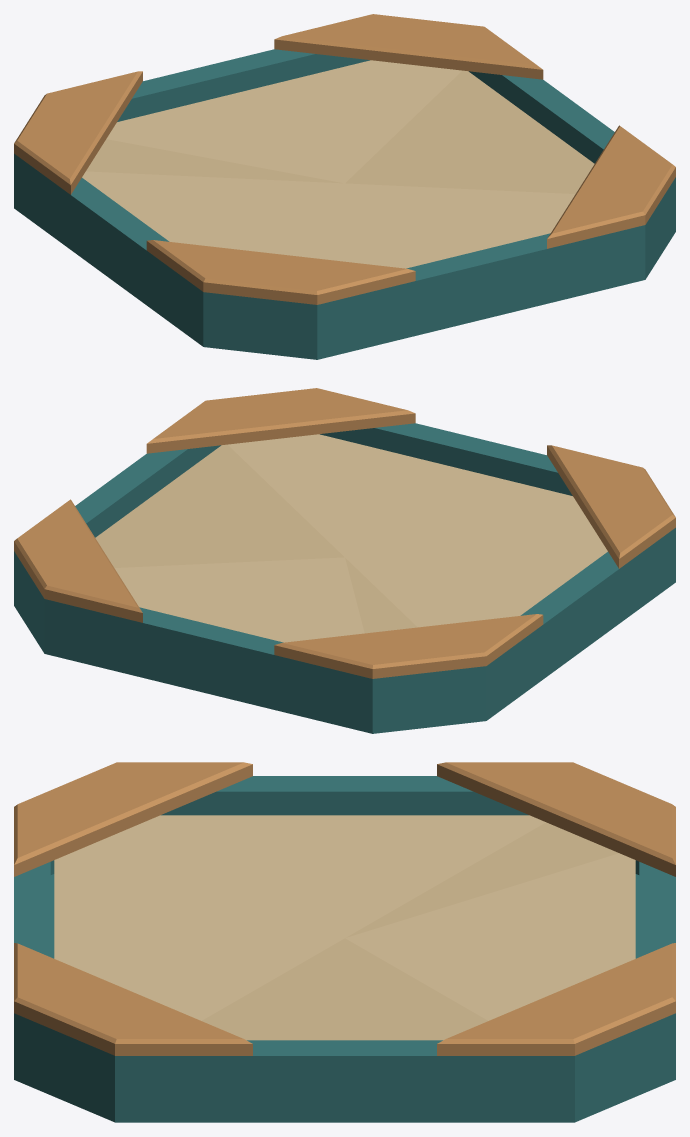
The picture shows the model from 3 angles, top to bottom: view 1: azimuth 30°, elevation 25°; view 2: azimuth 150°, elevation 25°; view 3: azimuth 270°, elevation 25°; orthographic projection. The views are drawn at different scales.
Parts seen in each view (by area): view 1: Complete_ClosedSandLayer, One_ContinuousClosedBottomPit, SW_BroadCornerSeat, NE_BroadCornerSeat, NW_BroadCornerSeat, SE_BroadCornerSeat; view 2: Complete_ClosedSandLayer, One_ContinuousClosedBottomPit, NW_BroadCornerSeat, SE_BroadCornerSeat, SW_BroadCornerSeat, NE_BroadCornerSeat; view 3: Complete_ClosedSandLayer, One_ContinuousClosedBottomPit, NW_BroadCornerSeat, SW_BroadCornerSeat, NE_BroadCornerSeat, SE_BroadCornerSeat.
Boxes of the visible parts, x1,y1,x2,y2 form: Complete_ClosedSandLayer: [82, 60, 594, 268]; One_ContinuousClosedBottomPit: [14, 49, 675, 359]; SW_BroadCornerSeat: [146, 240, 415, 304]; NE_BroadCornerSeat: [274, 14, 543, 79]; NW_BroadCornerSeat: [14, 71, 142, 194]; SE_BroadCornerSeat: [547, 125, 675, 248]; Complete_ClosedSandLayer: [95, 434, 607, 642]; One_ContinuousClosedBottomPit: [14, 423, 675, 733]; NW_BroadCornerSeat: [274, 614, 543, 678]; SE_BroadCornerSeat: [146, 388, 415, 453]; SW_BroadCornerSeat: [547, 445, 675, 568]; NE_BroadCornerSeat: [14, 499, 142, 622]; Complete_ClosedSandLayer: [54, 815, 635, 1040]; One_ContinuousClosedBottomPit: [14, 776, 675, 1122]; NW_BroadCornerSeat: [437, 762, 675, 876]; SW_BroadCornerSeat: [14, 762, 252, 876]; NE_BroadCornerSeat: [437, 943, 675, 1055]; SE_BroadCornerSeat: [14, 943, 252, 1055].
Size of the model in its own units: 2.16 by 0.295 by 2.16.
